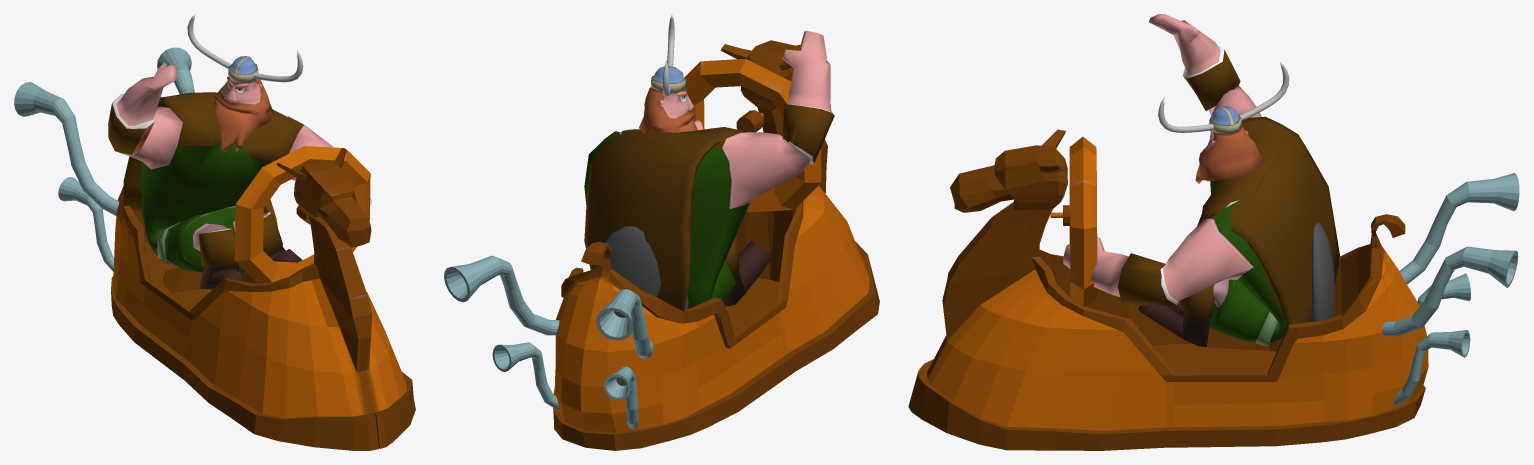
The model's file is vikingoVacile_000455.obj.
The picture shows the model from 3 angles, left to right: view 1: azimuth 30°, elevation 25°; view 2: azimuth 150°, elevation 25°; view 3: azimuth 270°, elevation 25°; orthographic projection. The views are drawn at different scales.
Parts seen in each view (by area): view 1: kartVikingo, Vikingo; view 2: kartVikingo, Vikingo; view 3: kartVikingo, Vikingo.
Boxes of the visible parts, x1,y1,x2,y2 form: kartVikingo: (14,47,415,450); Vikingo: (108,14,371,289); kartVikingo: (444,40,879,450); Vikingo: (584,14,834,311); kartVikingo: (908,129,1519,450); Vikingo: (1063,14,1339,347).
Bounding box in the file's own units: 4.79 × 6.48 × 10.31.
Materials: 2 (2 with a texture image).
